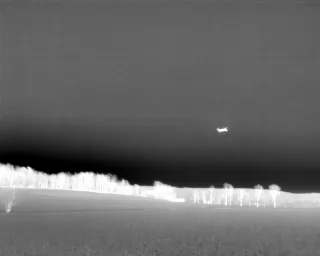DRONE: (213, 122, 232, 138)
